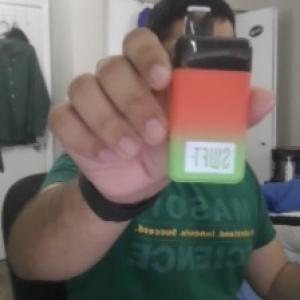Swift-E-Ciggirate: (162, 6, 255, 188)
